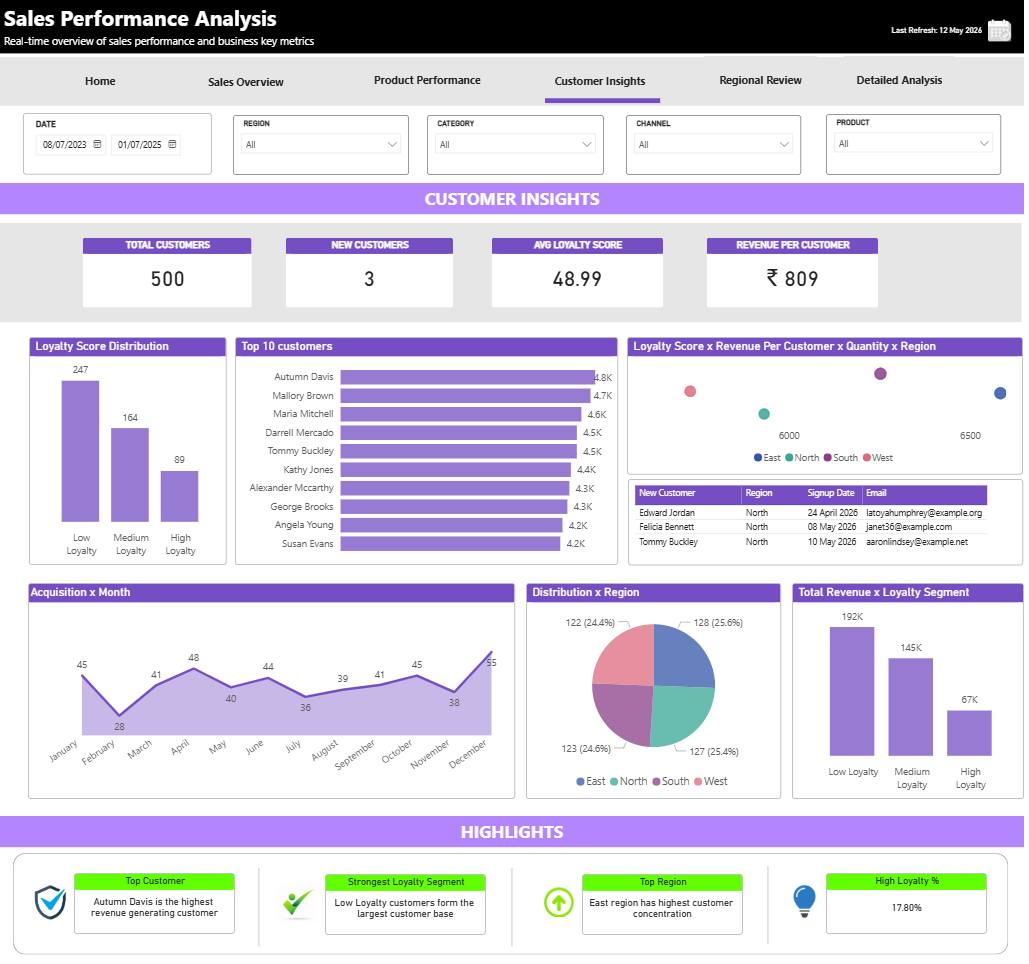

The dashboard page shown, as its layout file describes it:
{"tool":"powerbi","page":{"name":"Customer Insights","canvas":[1280,1200],"ordinal":3},"visuals":[{"type":"textbox","box":[0.5,280.4,1276.7,124],"z":1000},{"type":"textbox","box":[0,0,1280.2,68.2],"z":2000},{"type":"slicer","fields":{"Values":["Merge1.SaleDate"]},"box":[28.6,142.9,236,77.5],"z":3000},{"type":"slicer","fields":{"Values":["Products.Category"]},"box":[534,145,221,75],"z":4000},{"type":"textbox","box":[0,230.1,1280.2,39.3],"z":5000},{"type":"textbox","box":[0,39,585,36],"z":6000},{"type":"card","title":"NEW CUSTOMERS","fields":{"Values":["Customers.New Customers"]},"box":[356,297,211,89],"z":7000},{"type":"card","title":"TOTAL CUSTOMERS","fields":{"Values":["Merge1.Total Customers"]},"box":[103,298,213,89],"z":8000},{"type":"card","title":"AVG LOYALTY SCORE","fields":{"Values":["Customers.Avg Loyalty Score"]},"box":[614,297,216,89],"z":9000},{"type":"card","title":"REVENUE PER CUSTOMER","fields":{"Values":["Customers.Revenue Per Customer"]},"box":[882,297,216,89],"z":10000},{"type":"image","box":[1229.8,19.9,38.8,37.8],"z":11000},{"type":"slicer","fields":{"Values":["Regional Target.Region"]},"box":[291,145,220,75],"z":12000},{"type":"slicer","fields":{"Values":["Merge1.SalesChannel"]},"box":[782,145,219,75],"z":13000},{"type":"clusteredBarChart","title":"Top 10 customers ","fields":{"Category":["Customers.CustomerName"],"Y":["Merge1.Total Sales Amount"]},"box":[294,423,479,285],"z":14000},{"type":"pieChart","title":"Distribution x Region","fields":{"Category":["Customers.Region"],"Y":["Count(Customers.CustomerID)"]},"box":[658,730,319,270],"z":15000},{"type":"clusteredColumnChart","title":"Loyalty Score Distribution ","fields":{"Y":["Merge1.Total Customers"],"Category":["Customers.Loyalty Segment"]},"box":[36,423,247,285],"z":16000},{"type":"shape","title":"Acquisition x Month","box":[35,730,609,270],"z":17000},{"type":"lineChart","title":"Sales x Month","fields":{"Y":["CountNonNull(Customers.CustomerID)"],"Category":["Customers.SignupDate.Variation.Date Hierarchy.Month"]},"box":[50,787,588,198],"z":18000},{"type":"slicer","fields":{"Values":["Products.ProductName"]},"box":[1032,144,219,76],"z":19000},{"type":"textbox","box":[0,72,1398.9,61.1],"z":20000},{"type":"shape","title":"Detailed Creative Line","box":[236.7,110.3,146.6,35.8],"z":21000},{"type":"actionButton","title":"Detailed Creative Button","box":[219.3,74.5,177.1,57.2],"z":22000},{"type":"shape","title":"Detailed Creative Line","box":[1063.3,105.4,122,39.4],"z":23000},{"type":"actionButton","title":"Detailed Creative Button","box":[1055,71.2,138.5,58.7],"z":24000},{"type":"actionButton","title":"Detailed Creative Button","box":[664.6,72.4,170,58.9],"z":25000},{"type":"shape","title":"Detailed Creative Line","box":[681.2,109.1,144.4,36.7],"z":26000},{"type":"shape","title":"Detailed Creative Line","box":[890.8,106.6,122,38.2],"z":27000},{"type":"actionButton","title":"Detailed Creative Button","box":[879.9,71.2,141.4,59.6],"z":28000},{"type":"shape","title":"Detailed Creative Line","box":[449.8,105.4,170,37],"z":29000},{"type":"actionButton","title":"Detailed Creative Button","box":[442.3,72.3,183.3,56.7],"z":30000},{"type":"shape","title":"Detailed Creative Line","box":[76.7,109.1,105.9,35.6],"z":31000},{"type":"actionButton","title":"Detailed Creative Button","box":[61.5,72.1,127.9,58.7],"z":32000},{"type":"card","fields":{"Values":["Merge1.Last Refresh Date"]},"box":[1095.6,27.2,151.8,27.2],"z":33000},{"type":"tableEx","title":"New Customers x Region","fields":{"Values":["Customers.CustomerName","Customers.Region","Customers.SignupDate","Customers.Email"]},"box":[785,600,494,108],"z":34000},{"type":"textbox","box":[0,1021,1280,39],"z":35000},{"type":"shape","box":[16,1067,1244,127],"z":36000},{"type":"shape","box":[292,1086,62,98],"z":37000},{"type":"shape","box":[609.1,1085.7,62.4,97.8],"z":38000},{"type":"shape","box":[928.2,1083.3,62.4,97.8],"z":39000},{"type":"image","box":[980,1103,52,52],"z":40000},{"type":"image","box":[36,1097,62,63],"z":41000},{"type":"card","title":"Top Customer","fields":{"Values":["Customers.Top Customer Insight"]},"box":[93,1093,201,76],"z":42000},{"type":"card","title":"High Loyalty %","fields":{"Values":["Customers.High Loyalty Ratio"]},"box":[1032,1093,201,76],"z":43000},{"type":"card","title":"Top Region","fields":{"Values":["Customers.Top Customer Region"]},"box":[727,1094,201,76],"z":44000},{"type":"card","title":"Strongest Loyalty Segment","fields":{"Values":["Customers.Top Loyalty Insight"]},"box":[406,1094,201,76],"z":45000},{"type":"image","box":[675,1102,47,53],"z":46000},{"type":"image","box":[341,1103,60,57],"z":47000},{"type":"scatterChart","title":"Loyalty Score x Revenue Per Customer x Quantity x Region","fields":{"X":["Sum(Customers.LoyaltyScore)"],"Y":["Customers.Revenue Per Customer"],"Size":["Sum(Sales.Quantity)"],"Series":["Customers.Region"]},"box":[784,423,495,172],"z":48000},{"type":"clusteredColumnChart","title":"Total Revenue x Loyalty Segment","fields":{"Category":["Customers.Loyalty Segment"],"Y":["Merge1.Total Sales Amount"]},"box":[990,730,290,270],"z":49000}]}

Visuals, with their boxes in screenshot pixels (x1, y1, x2, y2), scaled from the page's 1280x1200 canvas onto the 1029x964 screenshot:
textbox: (x1=0, y1=225, x2=1027, y2=325)
textbox: (x1=0, y1=0, x2=1028, y2=55)
slicer - Merge1.SaleDate: (x1=23, y1=115, x2=213, y2=177)
slicer - Products.Category: (x1=429, y1=116, x2=607, y2=177)
textbox: (x1=0, y1=185, x2=1028, y2=216)
textbox: (x1=0, y1=31, x2=470, y2=60)
"NEW CUSTOMERS" card: (x1=286, y1=239, x2=456, y2=310)
"TOTAL CUSTOMERS" card: (x1=83, y1=239, x2=254, y2=311)
"AVG LOYALTY SCORE" card: (x1=494, y1=239, x2=667, y2=310)
"REVENUE PER CUSTOMER" card: (x1=709, y1=239, x2=883, y2=310)
image: (x1=989, y1=16, x2=1020, y2=46)
slicer - Regional Target.Region: (x1=234, y1=116, x2=411, y2=177)
slicer - Merge1.SalesChannel: (x1=629, y1=116, x2=805, y2=177)
"Top 10 customers " clusteredBarChart: (x1=236, y1=340, x2=621, y2=569)
"Distribution x Region" pieChart: (x1=529, y1=586, x2=785, y2=803)
"Loyalty Score Distribution " clusteredColumnChart: (x1=29, y1=340, x2=228, y2=569)
"Acquisition x Month" shape: (x1=28, y1=586, x2=518, y2=803)
"Sales x Month" lineChart: (x1=40, y1=632, x2=513, y2=791)
slicer - Products.ProductName: (x1=830, y1=116, x2=1006, y2=177)
textbox: (x1=0, y1=58, x2=1028, y2=107)
"Detailed Creative Line" shape: (x1=190, y1=89, x2=308, y2=117)
"Detailed Creative Button" actionButton: (x1=176, y1=60, x2=319, y2=106)
"Detailed Creative Line" shape: (x1=855, y1=85, x2=953, y2=116)
"Detailed Creative Button" actionButton: (x1=848, y1=57, x2=959, y2=104)
"Detailed Creative Button" actionButton: (x1=534, y1=58, x2=671, y2=105)
"Detailed Creative Line" shape: (x1=548, y1=88, x2=664, y2=117)
"Detailed Creative Line" shape: (x1=716, y1=86, x2=814, y2=116)
"Detailed Creative Button" actionButton: (x1=707, y1=57, x2=821, y2=105)
"Detailed Creative Line" shape: (x1=362, y1=85, x2=498, y2=114)
"Detailed Creative Button" actionButton: (x1=356, y1=58, x2=503, y2=104)
"Detailed Creative Line" shape: (x1=62, y1=88, x2=147, y2=116)
"Detailed Creative Button" actionButton: (x1=49, y1=58, x2=152, y2=105)
card - Merge1.Last Refresh Date: (x1=881, y1=22, x2=1003, y2=44)
"New Customers x Region" tableEx: (x1=631, y1=482, x2=1028, y2=569)
textbox: (x1=0, y1=820, x2=1028, y2=852)
shape: (x1=13, y1=857, x2=1013, y2=959)
shape: (x1=235, y1=872, x2=285, y2=951)
shape: (x1=490, y1=872, x2=540, y2=951)
shape: (x1=746, y1=870, x2=796, y2=949)
image: (x1=788, y1=886, x2=830, y2=928)
image: (x1=29, y1=881, x2=79, y2=932)
"Top Customer" card: (x1=75, y1=878, x2=236, y2=939)
"High Loyalty %" card: (x1=830, y1=878, x2=991, y2=939)
"Top Region" card: (x1=584, y1=879, x2=746, y2=940)
"Strongest Loyalty Segment" card: (x1=326, y1=879, x2=488, y2=940)
image: (x1=543, y1=885, x2=580, y2=928)
image: (x1=274, y1=886, x2=322, y2=932)
"Loyalty Score x Revenue Per Customer x Quantity x Region" scatterChart: (x1=630, y1=340, x2=1028, y2=478)
"Total Revenue x Loyalty Segment" clusteredColumnChart: (x1=796, y1=586, x2=1028, y2=803)
